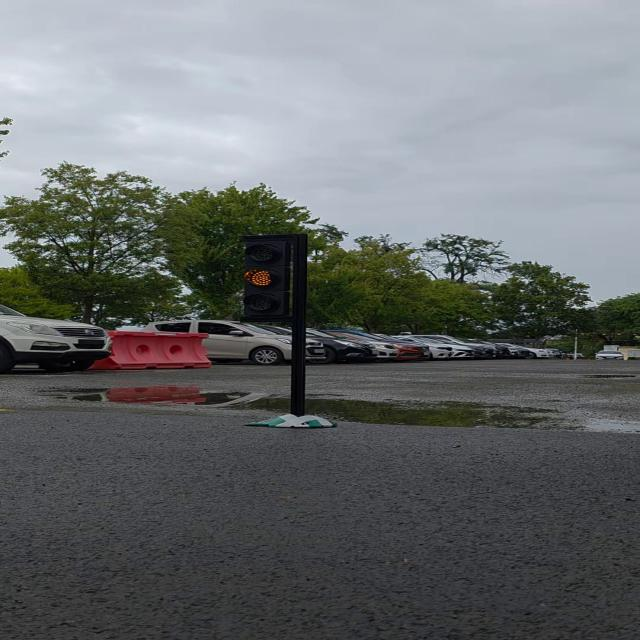yellow: (234, 229, 307, 328)
